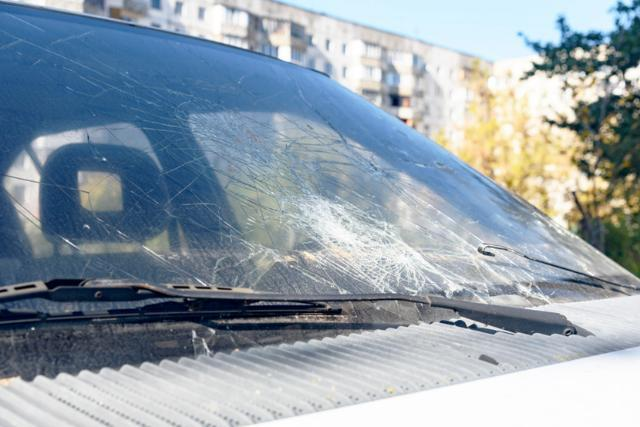Windshield: (0, 2, 637, 376)
